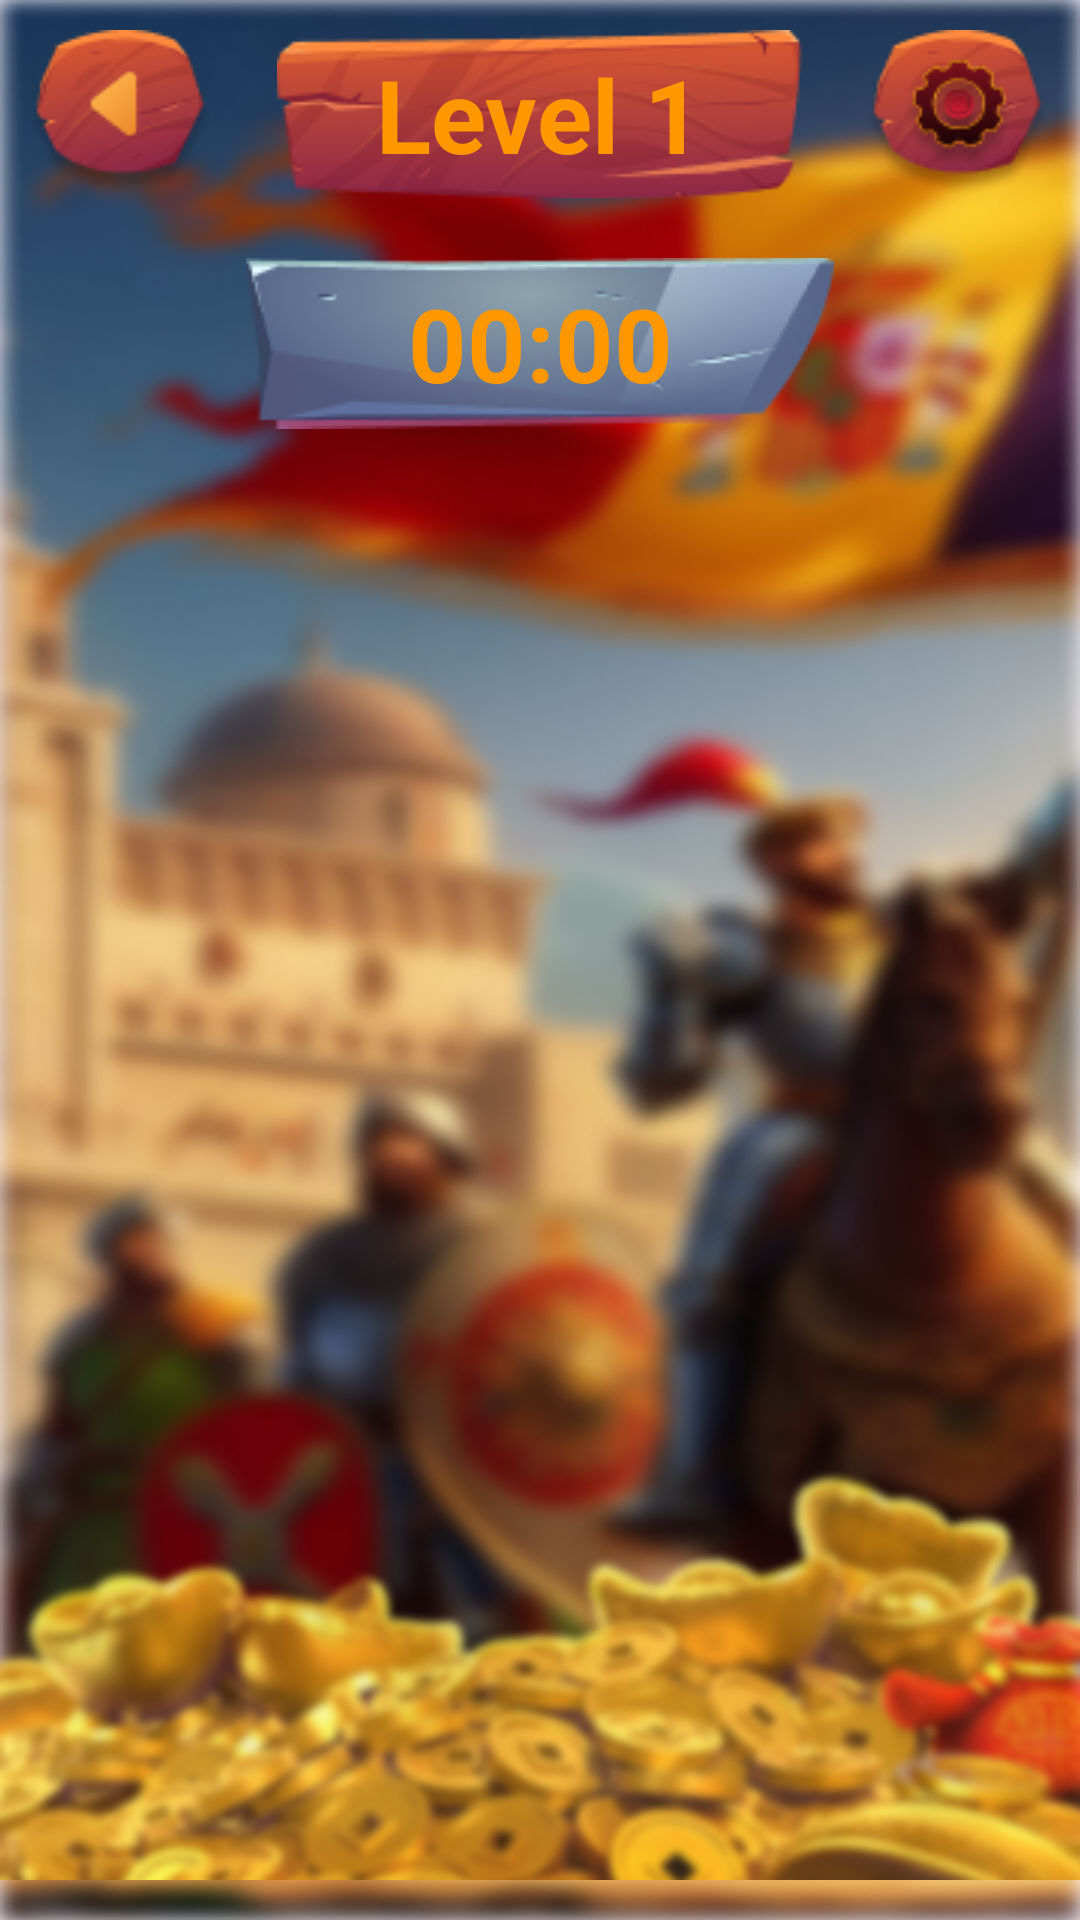

Screen size 1080x1920. Icon name, then its center in pixels as (x=x, y=y):
backbtn: (x=122, y=114)
settingsicon: (x=958, y=114)
